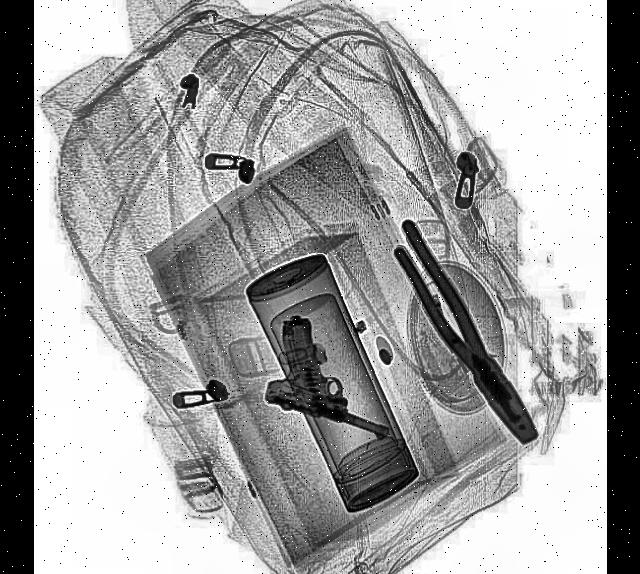Gun: (258, 311, 410, 445)
Pliers: (378, 217, 546, 457)
